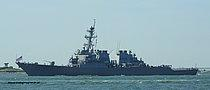MIL_Ship: (14, 25, 200, 76)
